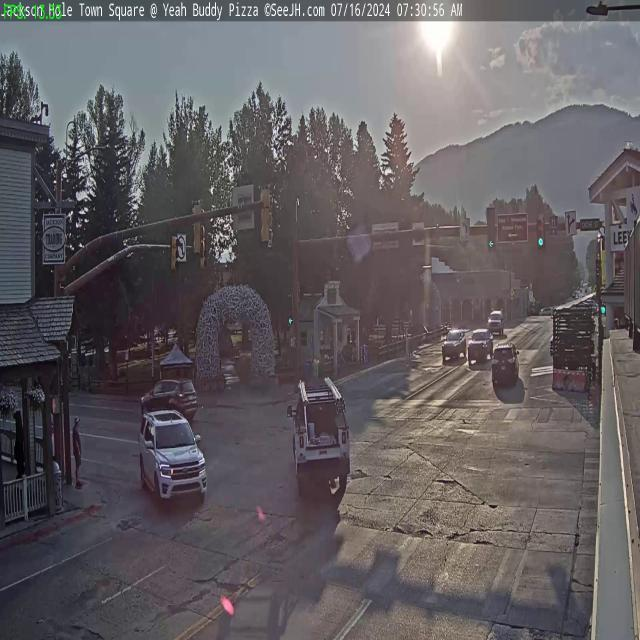minivan: (492, 342, 520, 388)
person: (72, 412, 84, 490)
pickup: (289, 386, 347, 503), (468, 330, 494, 363)
suv: (142, 411, 206, 508), (141, 377, 197, 422), (442, 327, 468, 360), (488, 310, 504, 334)
traffic light: (190, 200, 204, 257), (260, 183, 273, 244), (486, 206, 496, 250), (536, 214, 546, 248)
